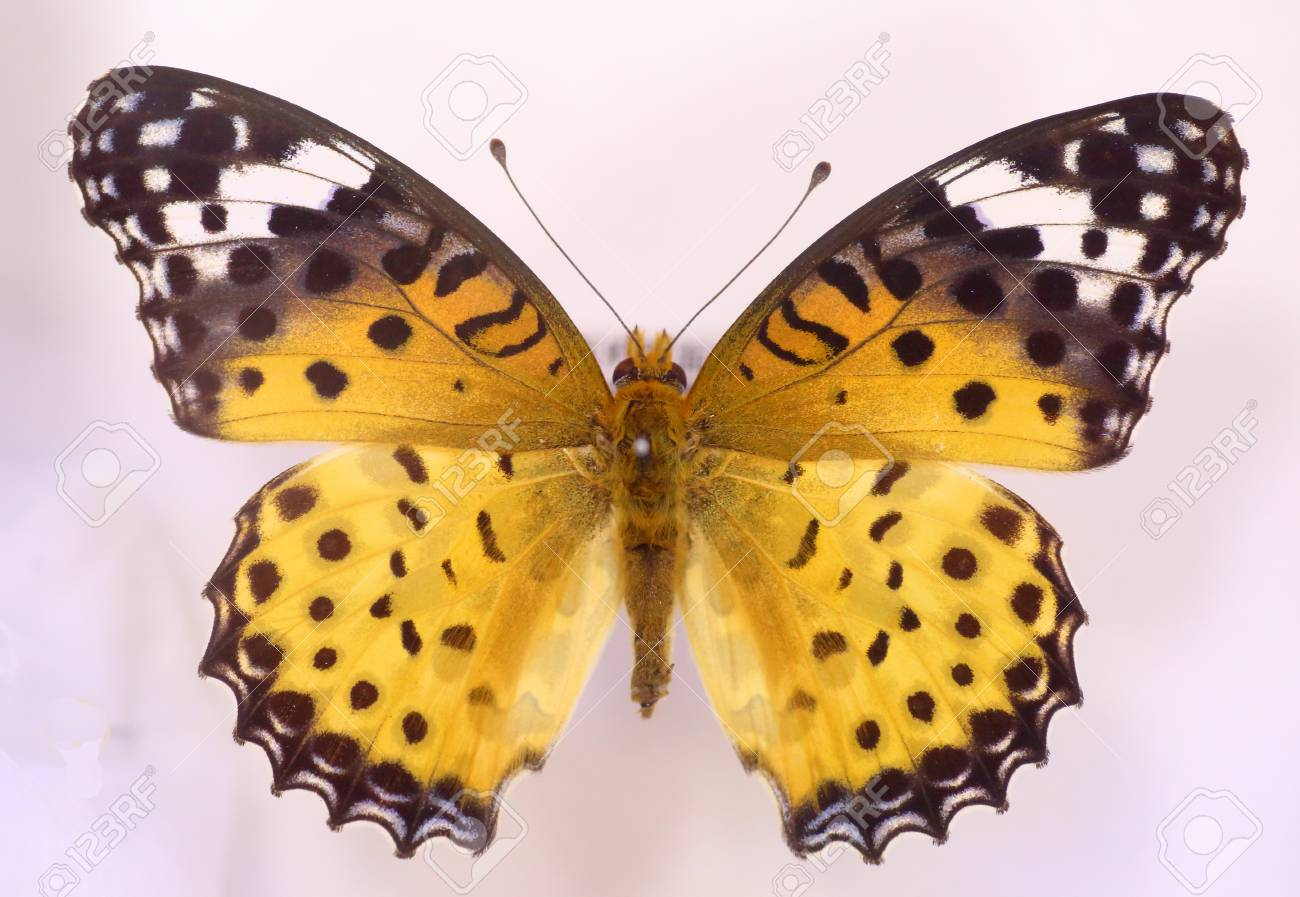Argyreus hyperbius: (52, 43, 1247, 868)
butterfly: (54, 45, 1249, 870)
